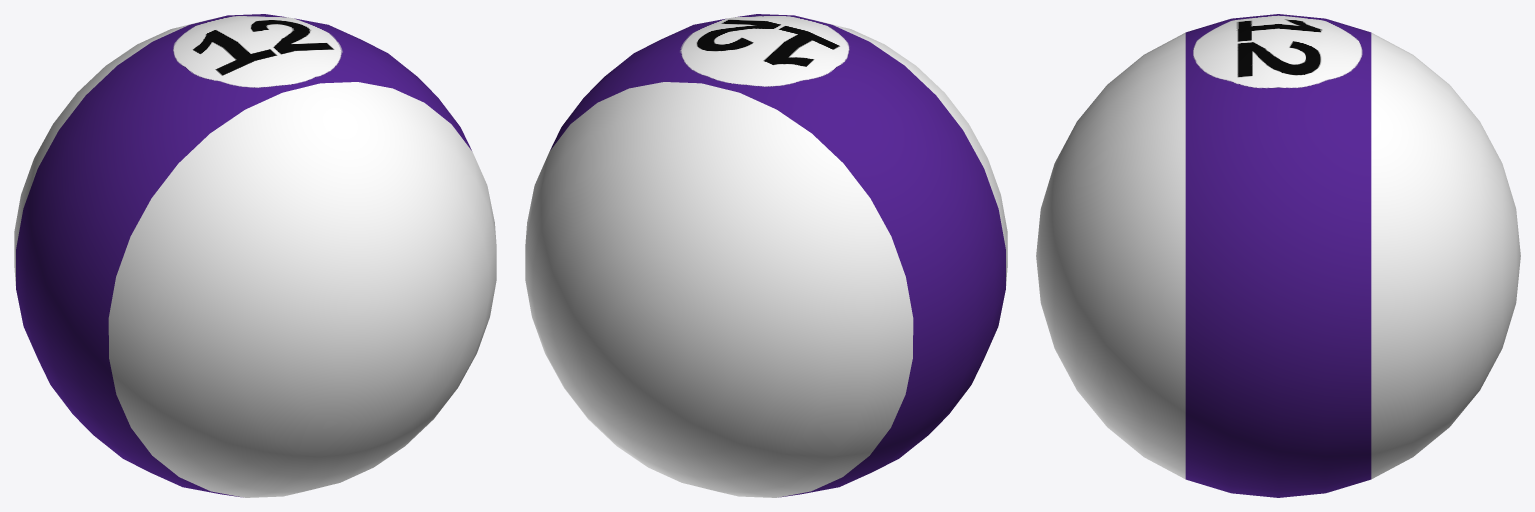
File: 12Ball.glb
The picture shows the model from 3 angles, left to right: view 1: azimuth 30°, elevation 25°; view 2: azimuth 150°, elevation 25°; view 3: azimuth 270°, elevation 25°; orthographic projection.
Parts seen in each view (by area): view 1: SphereStriped; view 2: SphereStriped; view 3: SphereStriped.
Boxes of the visible parts, box(x1,y1,x2,y2) form: SphereStriped: box(14, 14, 496, 497); SphereStriped: box(525, 14, 1007, 497); SphereStriped: box(1036, 14, 1520, 497).
Size of the model in its own units: 0.1991 by 0.1991 by 0.2.
Materials: 1 (1 with a texture image).
